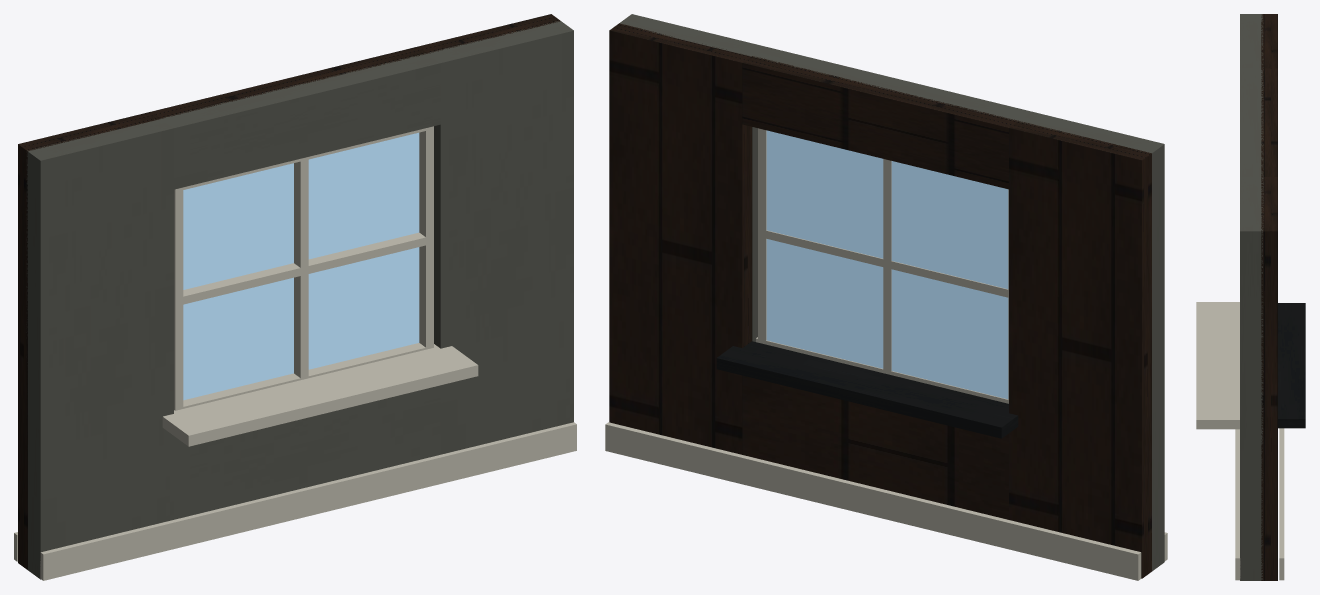
Rendered from room-window-4m.glb.
3 renders of one model, left to right at view 1: azimuth 30°, elevation 25°; view 2: azimuth 150°, elevation 25°; view 3: azimuth 270°, elevation 25°, orthographic. The views are drawn at different scales.
Parts seen in each view (by area): view 1: Plaster window pier, Plaster window pier.001, Overcast window glass, Plaster window wall.001, Plaster window wall, Skirting board, Interior window sill, Exterior brick pier, Window sash crosspiece.001, Window sash upright.001, Window sash upright.002, Exterior brick window wall.001 (+4 smaller); view 2: Exterior brick pier, Exterior brick pier.001, Overcast window glass, Exterior brick window wall, Exterior brick window wall.001, Skirting board.001, Exterior stone sill, Plaster window pier, Plaster window wall.001, Plaster window pier.001, Window sash crosspiece.001, Window sash upright.001 (+2 smaller); view 3: Plaster window pier.001, Exterior brick pier.001, Interior window sill, Exterior stone sill, Plaster window wall.001, Exterior brick window wall.001, Plaster window pier, Exterior brick pier, Skirting board.001, Skirting board.
Boxes of the visible parts, left/top/right/bottom form: Plaster window pier: left=26, top=119, right=173, bottom=579; Plaster window pier.001: left=428, top=21, right=573, bottom=454; Overcast window glass: left=183, top=132, right=419, bottom=400; Plaster window wall.001: left=161, top=53, right=440, bottom=189; Plaster window wall: left=174, top=385, right=440, bottom=519; Skirting board: left=40, top=422, right=576, bottom=580; Interior window sill: left=162, top=344, right=478, bottom=446; Exterior brick pier: left=18, top=111, right=160, bottom=569; Window sash crosspiece.001: left=174, top=232, right=433, bottom=306; Window sash upright.001: left=294, top=157, right=308, bottom=379; Window sash upright.002: left=419, top=126, right=433, bottom=347; Exterior brick window wall.001: left=152, top=46, right=427, bottom=118; Exterior brick pier: left=1009, top=121, right=1151, bottom=578; Exterior brick pier.001: left=609, top=23, right=752, bottom=454; Overcast window glass: left=766, top=130, right=1008, bottom=399; Exterior brick window wall: left=742, top=375, right=1008, bottom=519; Exterior brick window wall.001: left=742, top=56, right=1018, bottom=189; Skirting board.001: left=605, top=422, right=1141, bottom=580; Exterior stone sill: left=716, top=341, right=1018, bottom=438; Plaster window pier: left=1019, top=111, right=1164, bottom=571; Plaster window wall.001: left=752, top=46, right=1030, bottom=121; Plaster window pier.001: left=619, top=14, right=764, bottom=341; Window sash crosspiece.001: left=758, top=229, right=1008, bottom=297; Window sash upright.001: left=883, top=159, right=891, bottom=374; Plaster window pier.001: left=1240, top=177, right=1263, bottom=580; Exterior brick pier.001: left=1261, top=177, right=1277, bottom=580; Interior window sill: left=1196, top=302, right=1239, bottom=429; Exterior stone sill: left=1278, top=303, right=1305, bottom=428; Plaster window wall.001: left=1240, top=68, right=1263, bottom=176; Exterior brick window wall.001: left=1261, top=68, right=1277, bottom=176; Plaster window pier: left=1240, top=14, right=1263, bottom=68; Exterior brick pier: left=1261, top=14, right=1277, bottom=68; Skirting board.001: left=1279, top=428, right=1284, bottom=580; Skirting board: left=1235, top=429, right=1240, bottom=580.
Size of the model in its own units: 4 by 3 by 0.85.
5 materials, 3 textured.
